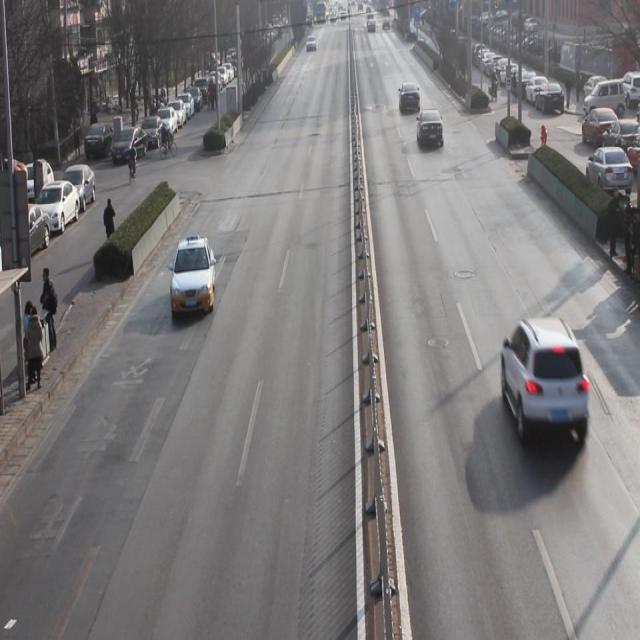car: (499, 318, 592, 446), (170, 232, 217, 321), (416, 109, 446, 154), (398, 81, 421, 116)
